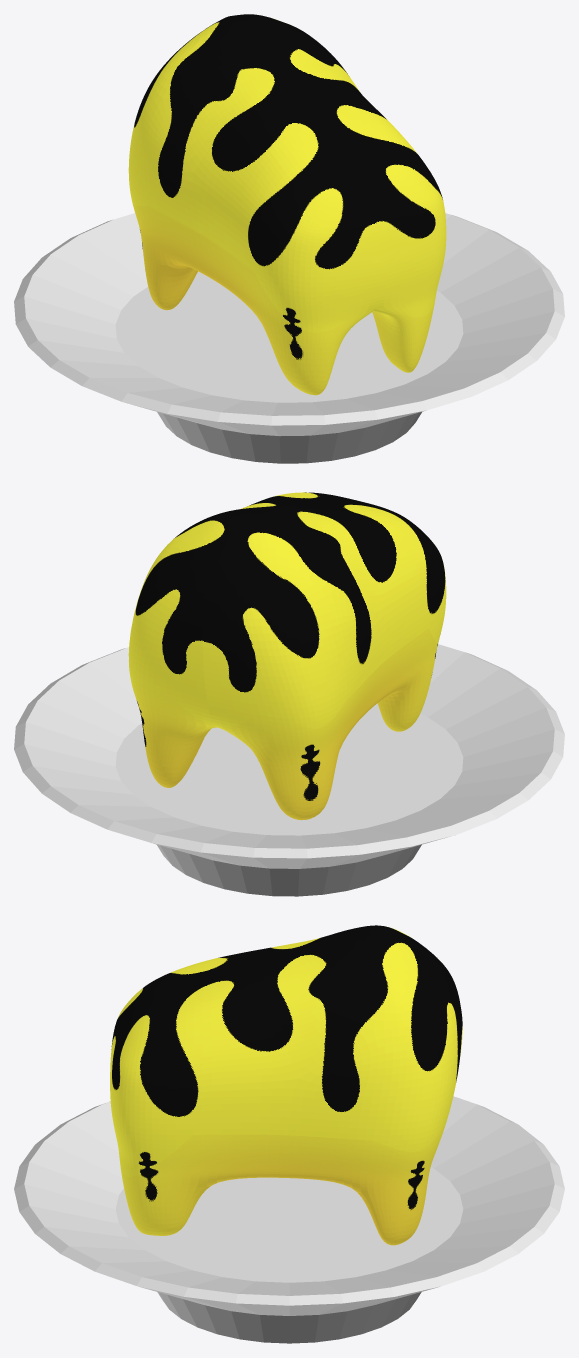
File: tigerStatue.glb
3 views of the same model, one above another, from view 1: azimuth 30°, elevation 25°; view 2: azimuth 150°, elevation 25°; view 3: azimuth 270°, elevation 25° (orthographic).
Parts seen in each view (by area): view 1: 立方体, 円; view 2: 立方体, 円; view 3: 立方体, 円.
Part boxes in pixels (left/top/right/bottom): 立方体: left=128, top=14, right=446, bottom=395; 円: left=14, top=213, right=564, bottom=463; 立方体: left=128, top=492, right=446, bottom=820; 円: left=14, top=644, right=564, bottom=896; 立方体: left=110, top=925, right=462, bottom=1245; 円: left=14, top=1096, right=564, bottom=1343.
Size of the model in its own units: 2 by 1.42 by 2.
Materials: 2 (1 with a texture image).
